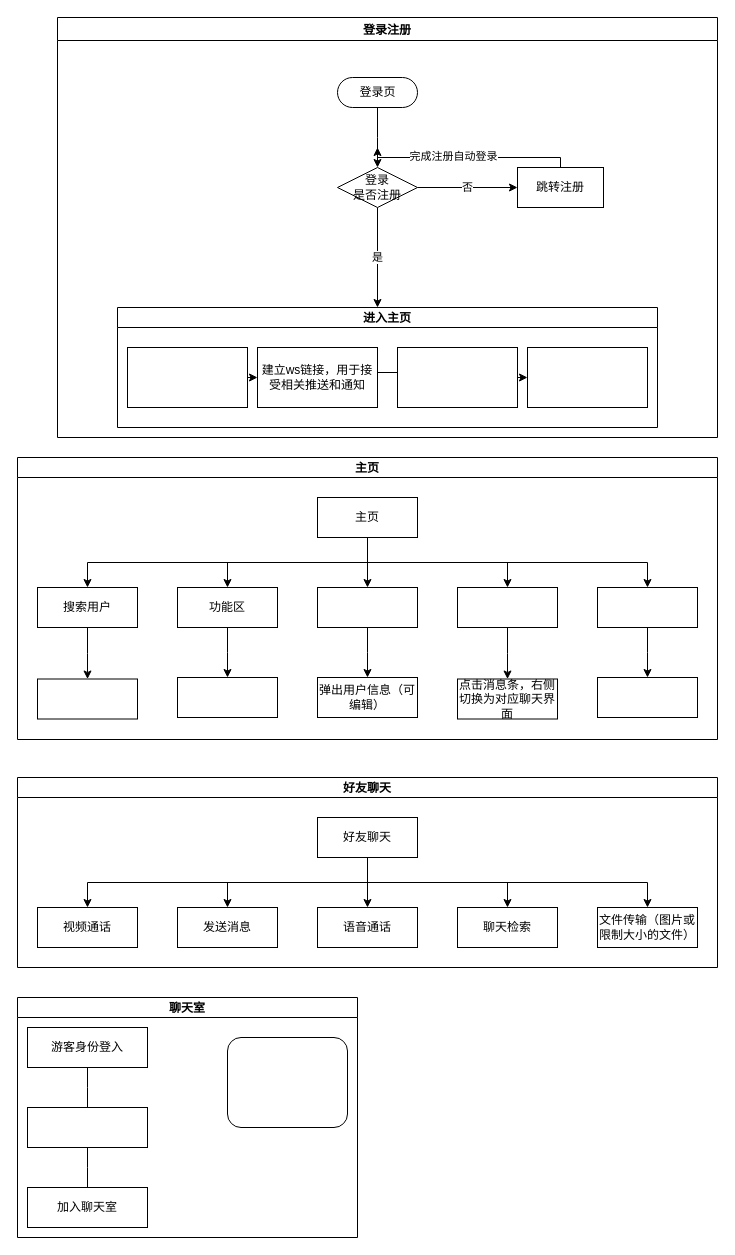
The diagram is 735 pixels wide and 1255 high, and some of its shapes have lost their labels. The centre of each missing label's shape, as x and y in pixels:
从服务端拉取聊天列表: (587,377)
修改用户在线状态: (457,377)
右侧默认显示天气: (227,697)
向store写入用户信息: (187,377)
好友分组: (647,607)
左侧消息列表切换为分组列表: (647,697)
弹出搜索用户框 （可以根据账号昵称）: (87,698)
点击用户头像: (367,607)
聊天列表: (507,607)
聊天室仅保留基础聊天功能，无法发送图片和上传文字，聊天信息不保留，关闭页面后销毁连接: (287,1082)
输入昵称: (87,1127)
